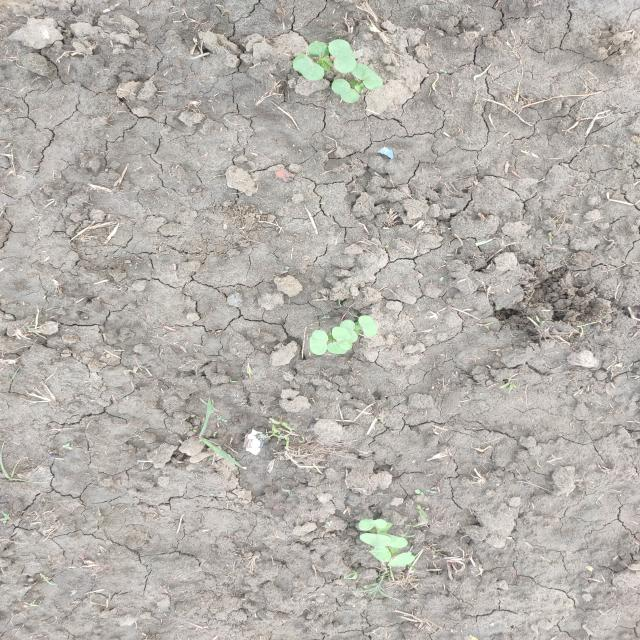seedling_s4: (327, 39, 357, 73), (351, 63, 383, 90), (293, 54, 324, 81), (331, 78, 359, 103), (309, 330, 329, 355), (332, 327, 352, 350), (379, 533, 408, 548), (358, 315, 377, 337), (359, 533, 391, 546), (387, 552, 414, 567), (340, 320, 357, 343), (368, 546, 392, 562), (308, 41, 329, 58), (359, 519, 387, 531), (328, 342, 347, 354)
